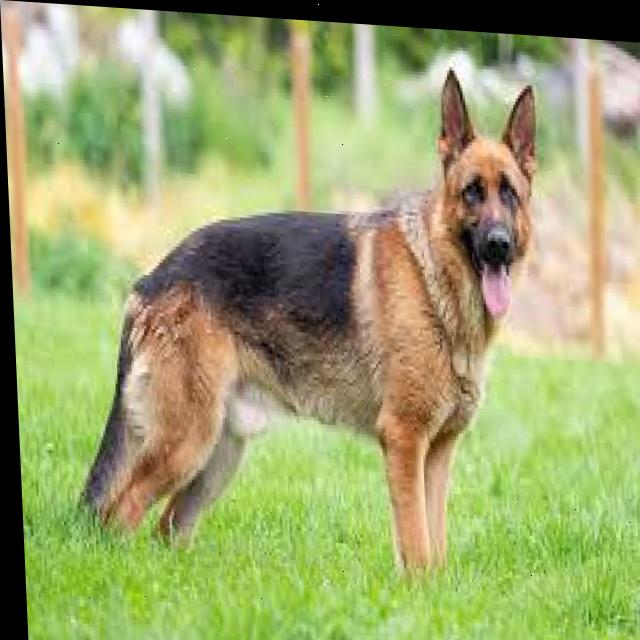GERMAN_SHEPHERD: (58, 37, 558, 604)
